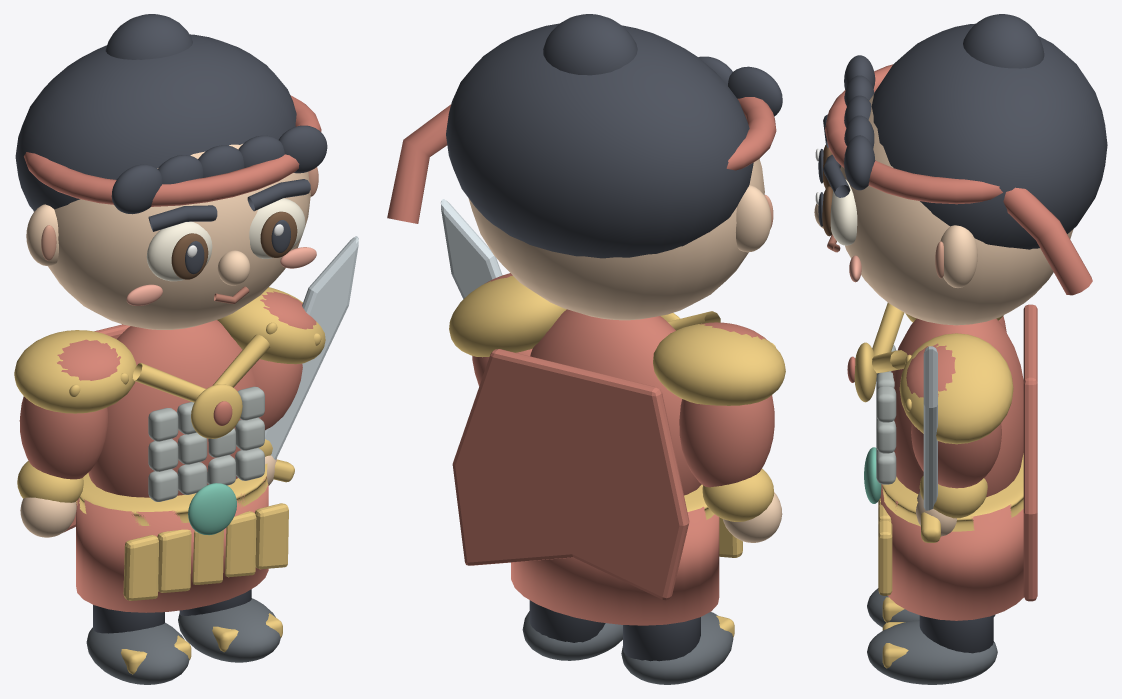
The model's file is r_militia.fbx.
3 views of the same model, side by side, from view 1: azimuth 30°, elevation 25°; view 2: azimuth 150°, elevation 25°; view 3: azimuth 270°, elevation 25° (orthographic). The views are drawn at different scales.
Visible parts, largest first — view 1: hair_mass, face, body, robe_skirt, headband, shoulder_gold.001, sleeve.001, dao_blade, boot, boot.001, shoulder_gold, hair_bun (+43 smaller); view 2: hair_mass, cape, face, robe_skirt, shoulder_gold.001, body, sleeve.001, shoulder_gold, hair_bun, headband_tail, boot, dao_blade (+9 smaller); view 3: hair_mass, face, robe_skirt, shoulder_gold, body, boot.001, headband, cape, headband_tail, hair_bun, sleeve, belt (+23 smaller).
Boxes of the visible parts, left/top/right/bottom form: hair_mass: left=15, top=34, right=296, bottom=211; face: left=33, top=144, right=310, bottom=329; body: left=88, top=320, right=260, bottom=497; robe_skirt: left=76, top=476, right=268, bottom=612; headband: left=24, top=95, right=321, bottom=206; shoulder_gold.001: left=14, top=330, right=136, bottom=413; sleeve.001: left=19, top=396, right=107, bottom=479; dao_blade: left=265, top=236, right=358, bottom=459; boot: left=86, top=622, right=189, bottom=684; boot.001: left=178, top=598, right=280, bottom=662; shoulder_gold: left=217, top=287, right=325, bottom=364; hair_bun: left=105, top=14, right=192, bottom=59; hair_mass: left=446, top=23, right=753, bottom=258; cape: left=452, top=349, right=689, bottom=600; face: left=468, top=159, right=764, bottom=320; robe_skirt: left=511, top=506, right=719, bottom=625; shoulder_gold.001: left=653, top=323, right=785, bottom=405; body: left=530, top=309, right=701, bottom=495; sleeve.001: left=679, top=395, right=774, bottom=487; shoulder_gold: left=449, top=276, right=566, bottom=357; hair_bun: left=543, top=14, right=637, bottom=75; headband_tail: left=387, top=104, right=450, bottom=223; boot: left=621, top=612, right=733, bottom=684; dao_blade: left=441, top=199, right=502, bottom=298; hair_mass: left=871, top=23, right=1107, bottom=249; face: left=840, top=93, right=1073, bottom=325; robe_skirt: left=880, top=484, right=1023, bottom=620; shoulder_gold: left=899, top=333, right=1013, bottom=444; body: left=891, top=318, right=1023, bottom=497; boot.001: left=867, top=620, right=997, bottom=684; headband: left=825, top=64, right=1002, bottom=204; cape: left=1023, top=304, right=1037, bottom=601; headband_tail: left=1003, top=187, right=1092, bottom=295; hair_bun: left=963, top=14, right=1044, bottom=68; sleeve: left=911, top=423, right=1001, bottom=488; belt: left=882, top=453, right=1023, bottom=531.
Bounding box in the file's own units: 1.35 × 2.46 × 1.03.
